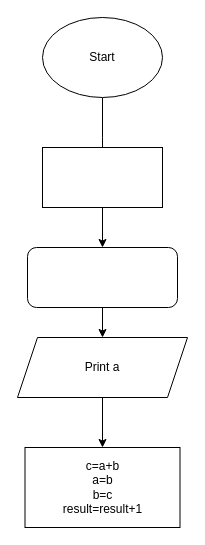
Some shapes in this 205 by 545 pixel diagram are drawn without their labels. Here are the shapes that lost their labels. From the top down, the centre of each, then its label:
At point 102,177: "input N".
At point 102,277: "result=1,a=1,b=1".
